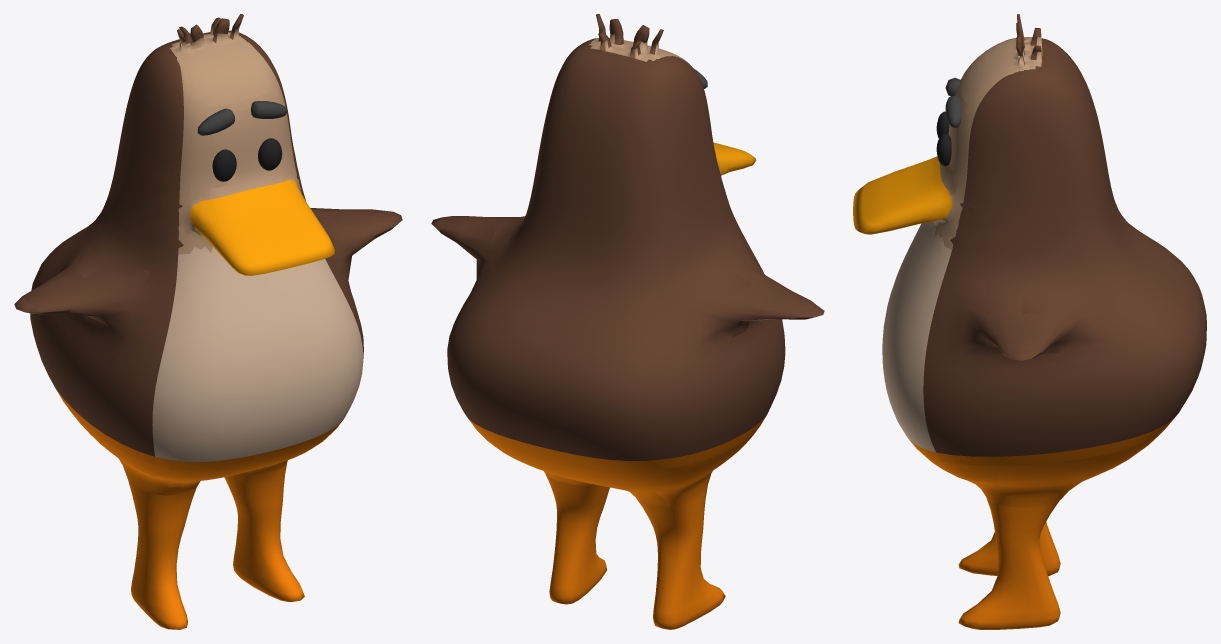
The model's file is ducky.glb.
3 views of the same model, side by side, from view 1: azimuth 30°, elevation 25°; view 2: azimuth 150°, elevation 25°; view 3: azimuth 270°, elevation 25° (orthographic). The views are drawn at different scales.
Parts seen in each view (by area): view 1: ducky.LOD0; view 2: ducky.LOD0; view 3: ducky.LOD0.
Boxes of the visible parts, left/top/right/bottom form: ducky.LOD0: left=14, top=14, right=402, bottom=629; ducky.LOD0: left=431, top=14, right=824, bottom=629; ducky.LOD0: left=853, top=14, right=1206, bottom=629.
Bounding box in the file's own units: 3.22 × 4.61 × 2.59.
Materials: 1 (1 with a texture image).
